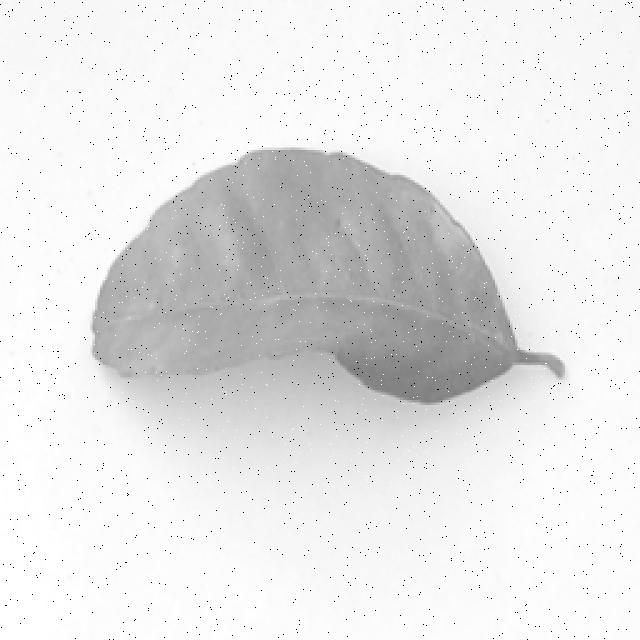greening: (86, 137, 571, 433)
